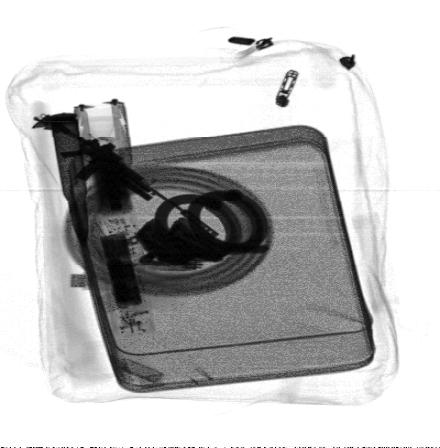Baton: (73, 100, 165, 388)
Bullet: (50, 112, 91, 256)
Gun: (30, 114, 222, 240)
HandCuffs: (131, 188, 271, 266)
